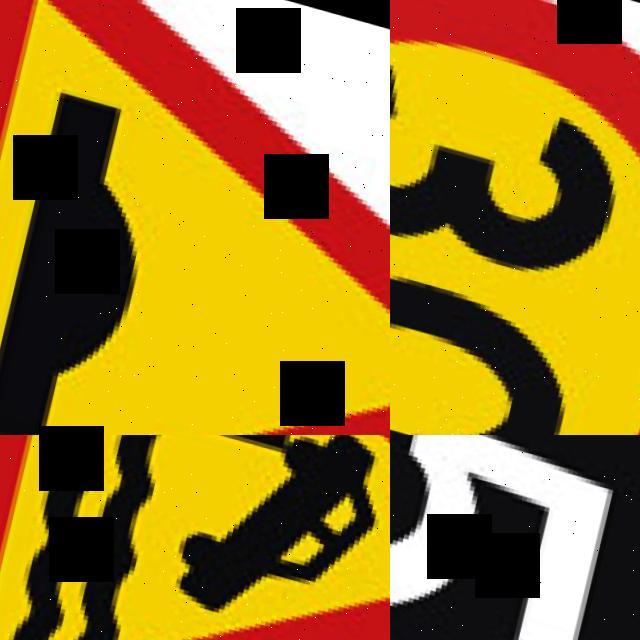100: (390, 435, 640, 640)
145: (0, 435, 390, 640)
Speed refulcation bump: (0, 0, 390, 435)
speed limit-30: (390, 0, 640, 435)
